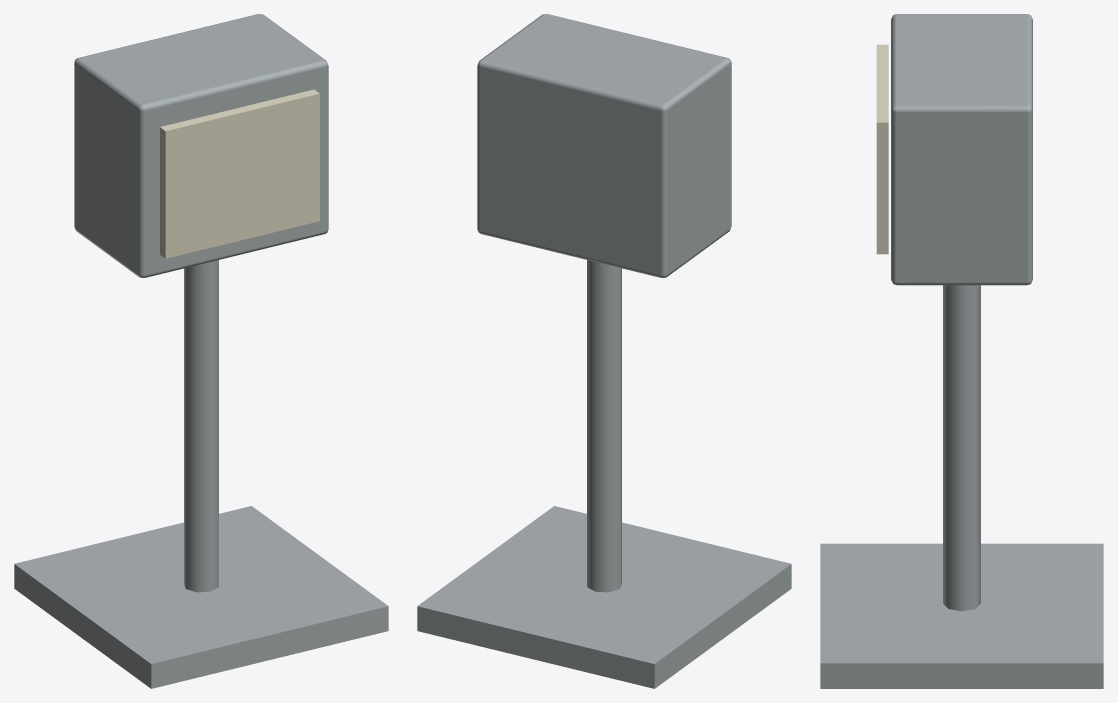
3 views of the same model, side by side, from view 1: azimuth 30°, elevation 25°; view 2: azimuth 150°, elevation 25°; view 3: azimuth 270°, elevation 25° (orthographic). The views are drawn at different scales.
Visible parts, largest first — view 1: searchlight-plinth; view 2: searchlight-plinth; view 3: searchlight-plinth.
Part boxes in pixels (x1=…): searchlight-plinth: x1=14, y1=14, x2=388, y2=688; searchlight-plinth: x1=417, y1=14, x2=791, y2=688; searchlight-plinth: x1=820, y1=14, x2=1103, y2=688.
Bounding box in the file's own units: 0.6 × 1.33 × 0.6.
